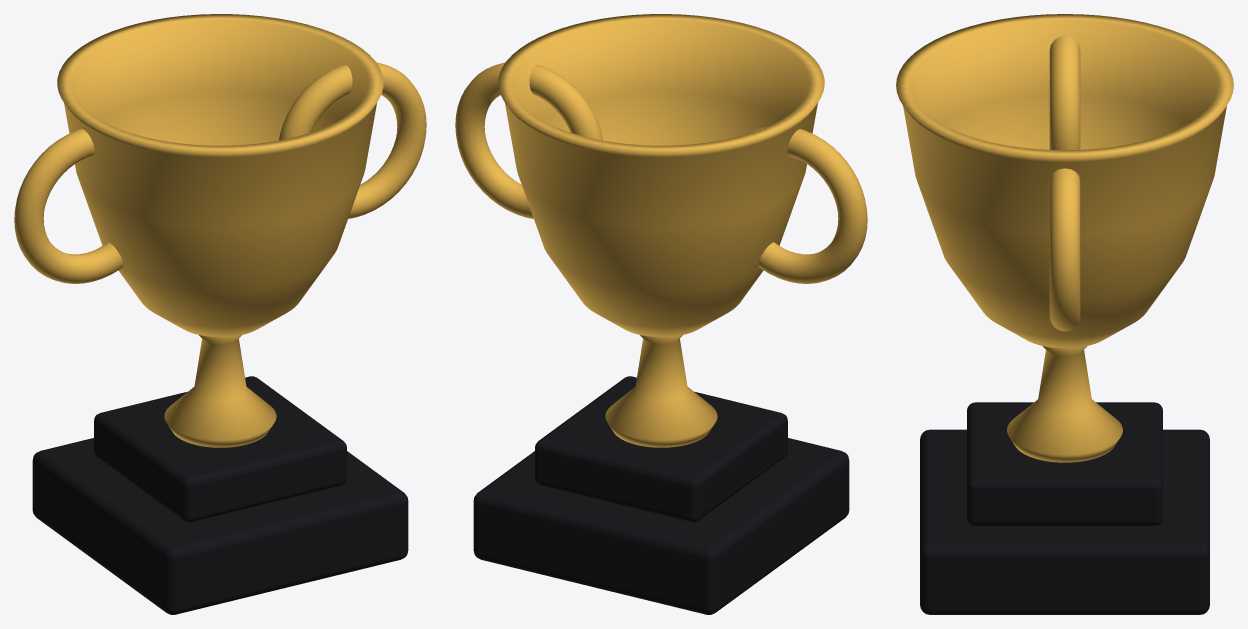
File: trophy.glb
3 renders of one model, left to right at view 1: azimuth 30°, elevation 25°; view 2: azimuth 150°, elevation 25°; view 3: azimuth 270°, elevation 25°, orthographic. The views are drawn at different scales.
Parts seen in each view (by area): view 1: cup, base, step, stem, handle_r, handle_l; view 2: cup, base, step, stem, handle_r, handle_l; view 3: cup, base, step, stem, handle_r, handle_l.
Part boxes in pixels (x1,y1,x2,y2): cup: [57, 14, 383, 337]; base: [32, 438, 408, 614]; step: [94, 376, 346, 522]; stem: [164, 335, 276, 447]; handle_r: [279, 62, 426, 218]; handle_l: [14, 127, 133, 283]; cup: [498, 14, 824, 337]; base: [473, 438, 849, 614]; step: [535, 376, 787, 522]; stem: [605, 335, 717, 447]; handle_r: [455, 62, 602, 218]; handle_l: [748, 127, 867, 283]; cup: [896, 14, 1233, 348]; base: [920, 429, 1209, 614]; step: [967, 402, 1162, 525]; stem: [1007, 346, 1122, 462]; handle_r: [1049, 168, 1080, 331]; handle_l: [1049, 35, 1080, 150].
Bounding box in the file's own units: 0.9377 × 1 × 0.6492.
